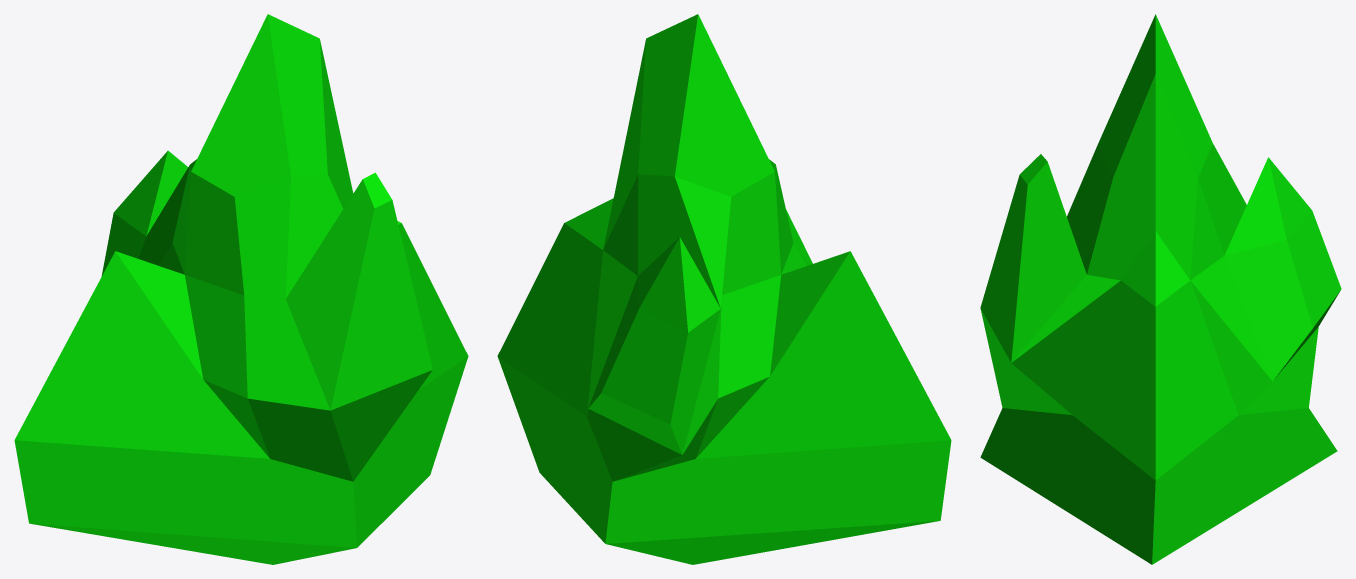
Rendered from iceberg1.fbx.
The picture shows the model from 3 angles, left to right: view 1: azimuth 30°, elevation 25°; view 2: azimuth 150°, elevation 25°; view 3: azimuth 270°, elevation 25°; orthographic projection. The views are drawn at different scales.
Visible parts, largest first — view 1: iceberg1; view 2: iceberg1; view 3: iceberg1.
Part boxes in pixels (bbox=[...]): iceberg1: bbox=[14, 14, 468, 564]; iceberg1: bbox=[497, 14, 951, 564]; iceberg1: bbox=[980, 14, 1341, 564].
Size of the model in its own units: 8.05 by 9.35 by 5.81.
